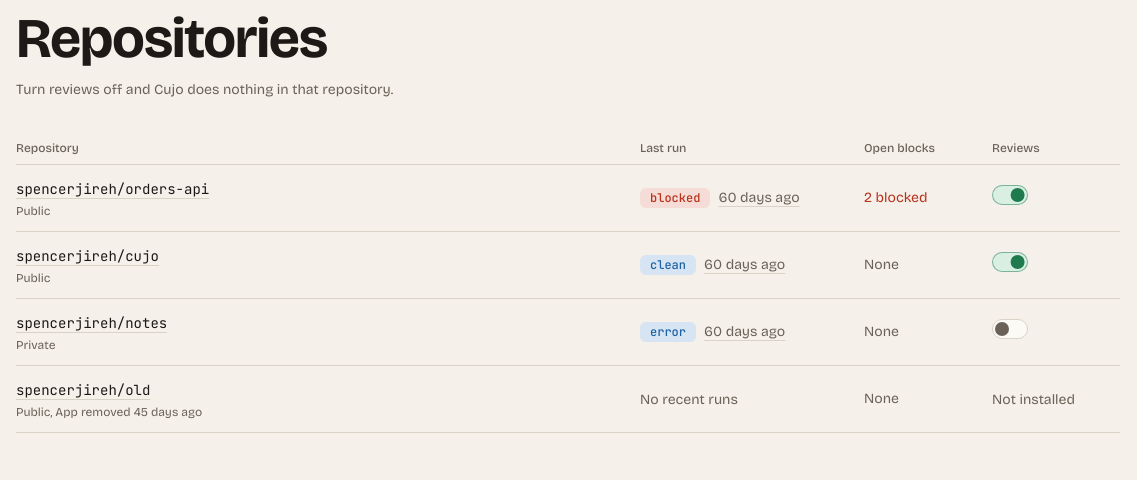
Test case: RepositoriesView (decision 175) › flips back and says so when the save is refused
Click the switch named "Reviews on spencerjireh/notes" at (1010, 329), box [992,319,1028,339]
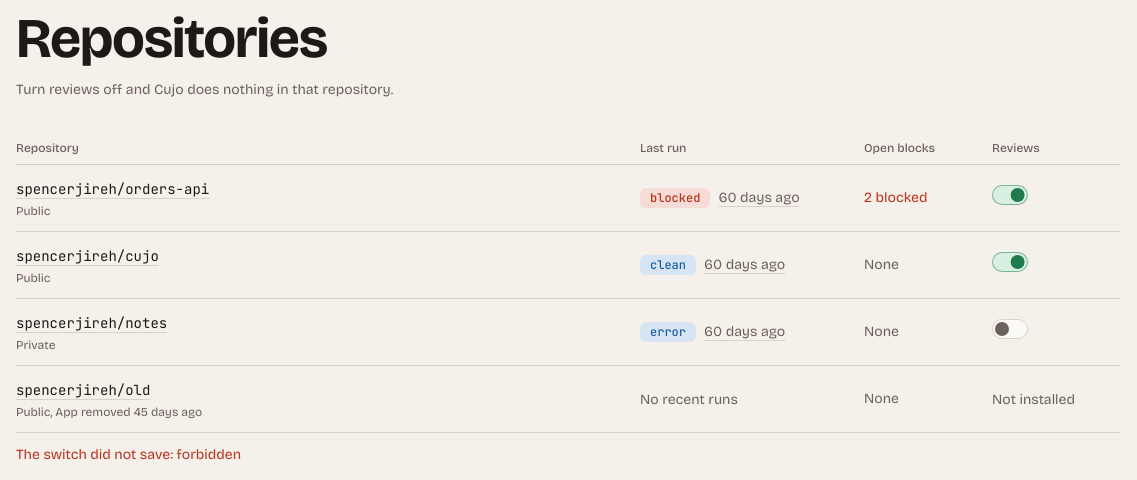
Result: the text "The switch did not save: forbidden" is shown at [16,446,241,463]
